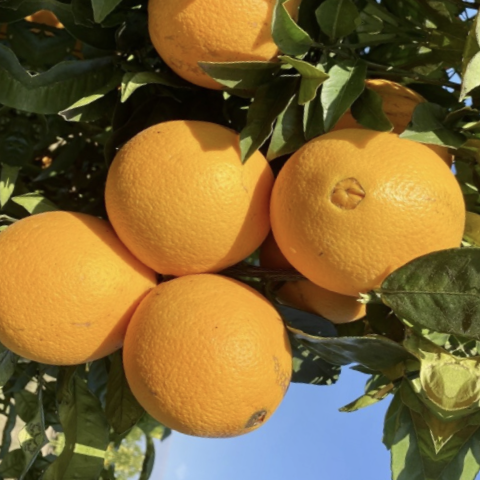orange: (247, 103, 480, 338), (91, 90, 307, 303), (0, 175, 187, 406), (106, 258, 307, 472)
